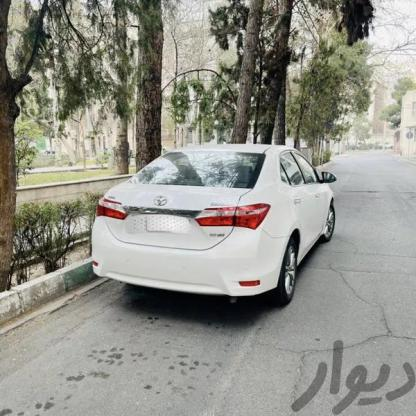Car: (81, 136, 343, 324)
